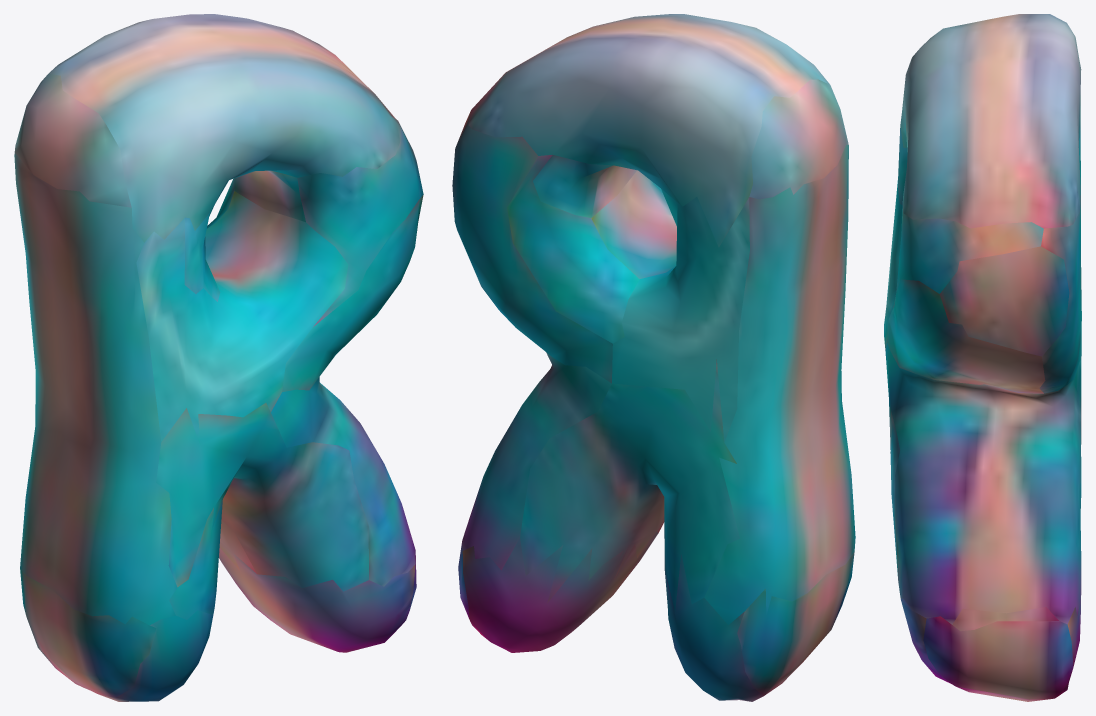
The picture shows the model from 3 angles, left to right: view 1: azimuth 30°, elevation 25°; view 2: azimuth 150°, elevation 25°; view 3: azimuth 270°, elevation 25°; orthographic projection. The views are drawn at different scales.
Visible parts, largest first — view 1: Candy-Letter-R; view 2: Candy-Letter-R; view 3: Candy-Letter-R.
Part boxes in pixels (x1,y1,x2,y2): Candy-Letter-R: (14, 14, 423, 701); Candy-Letter-R: (452, 14, 855, 701); Candy-Letter-R: (884, 14, 1081, 701).
Size of the model in its own units: 0.2075 by 0.3568 by 0.1077.
Materials: 1 (1 with a texture image).
